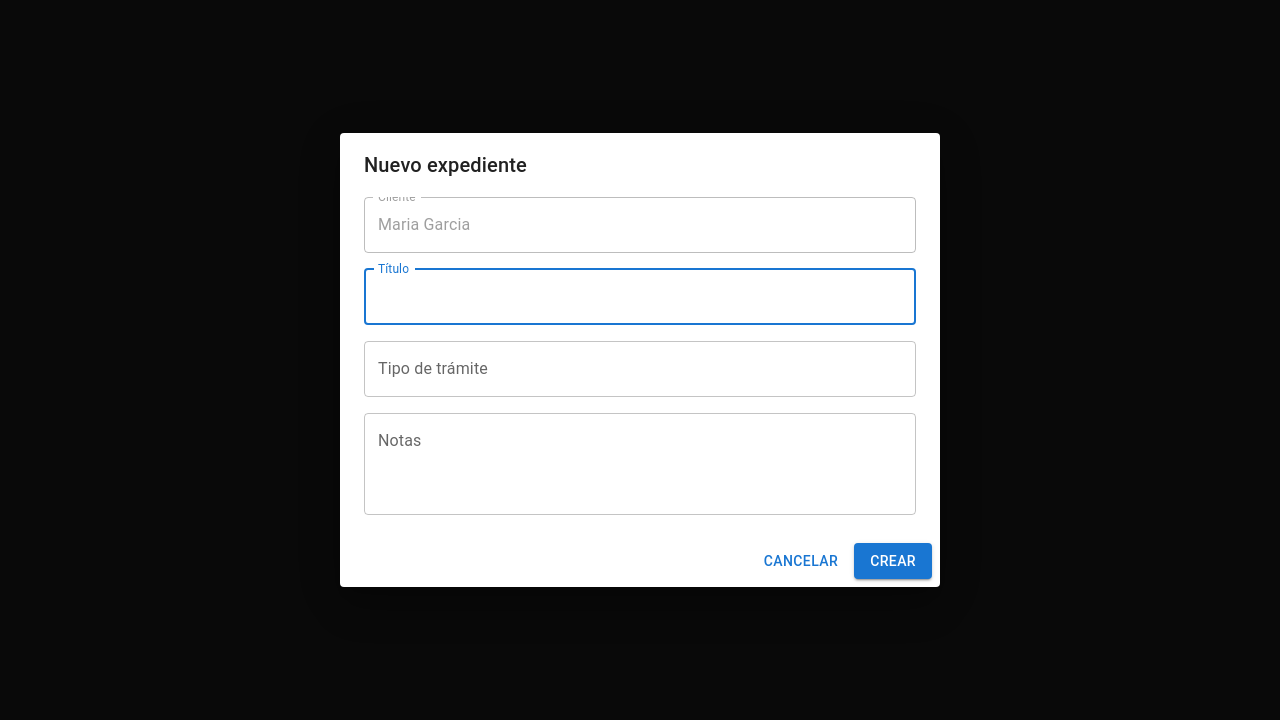
Test: ExpedienteFormDialog › exige un título antes de crear el expediente
Click the button "Crear": (893, 561) 854,543 -> 932,579
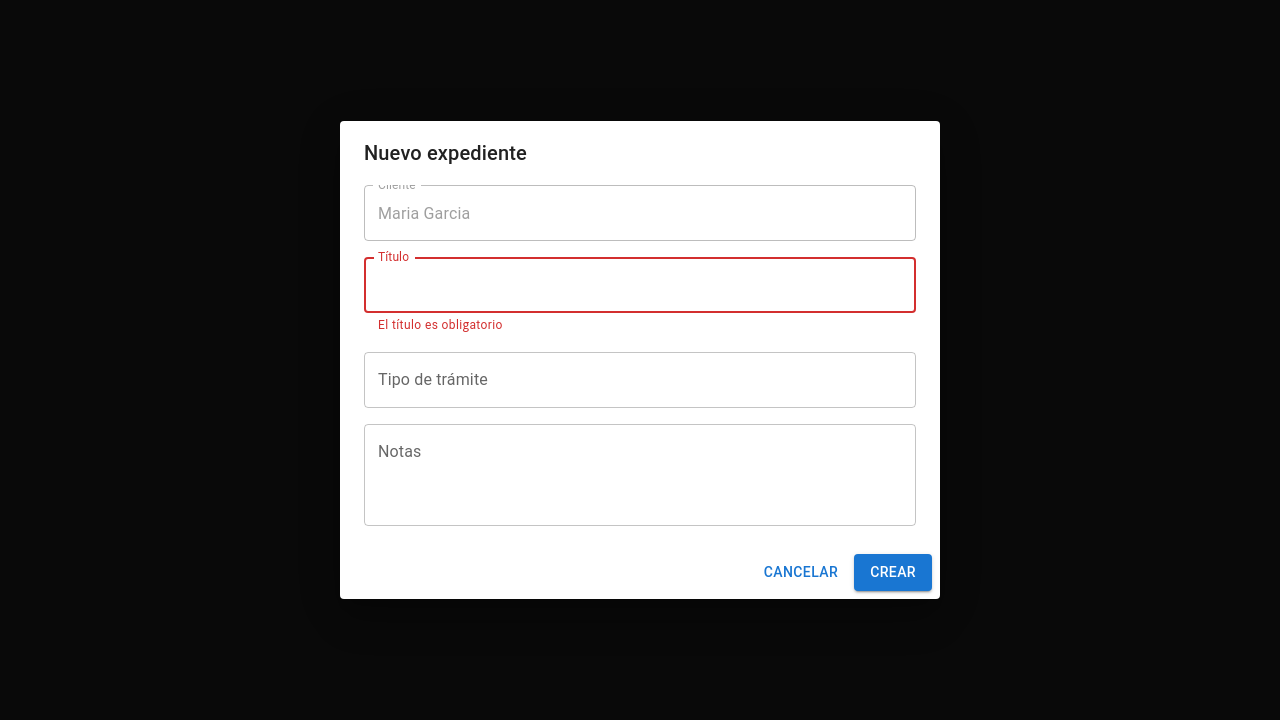
Now the text "El título es obligatorio" is shown, box 378,318 -> 503,332
